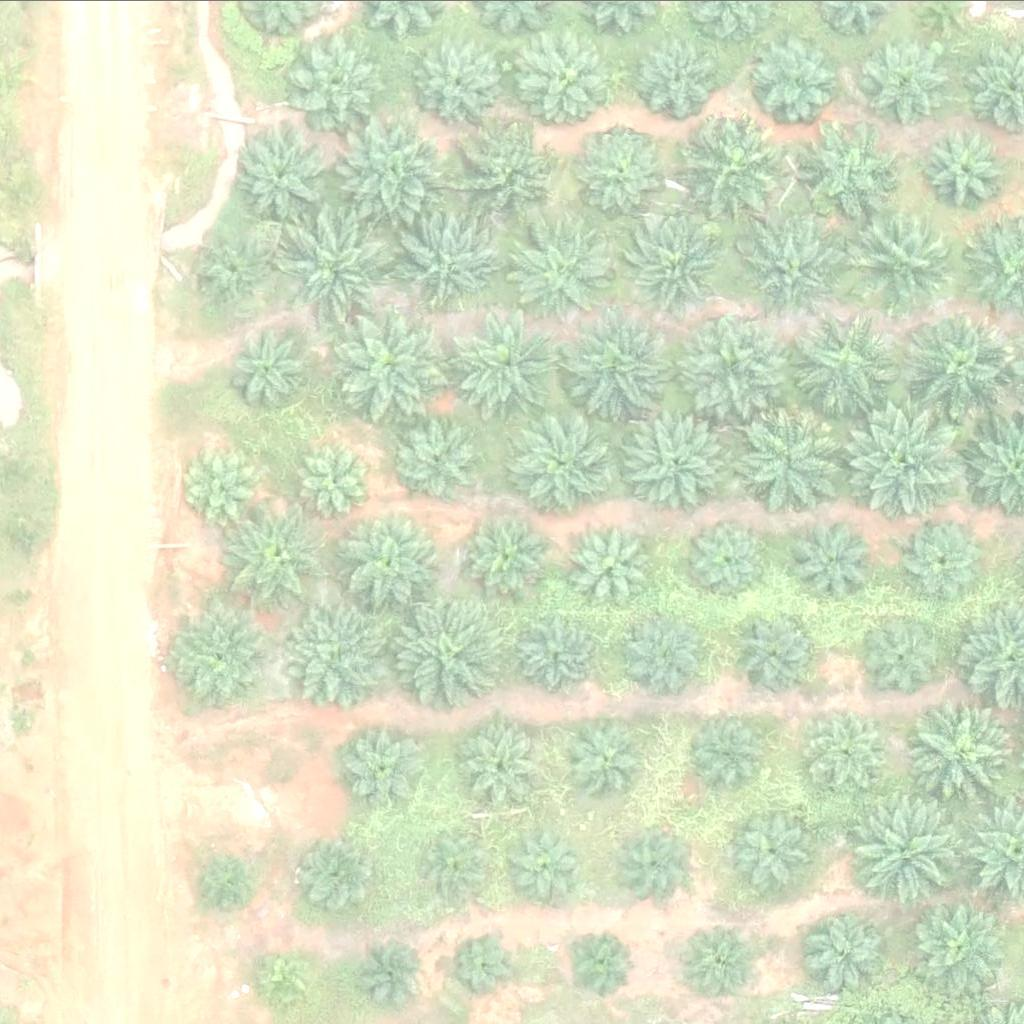Kelapa_Sawit: (267, 195, 392, 320), (284, 592, 398, 705), (391, 586, 505, 699), (848, 405, 962, 518), (331, 305, 444, 418), (450, 300, 563, 413), (559, 306, 672, 419), (849, 795, 962, 908), (677, 307, 791, 419), (906, 304, 1020, 416), (735, 404, 849, 516), (846, 207, 959, 319), (909, 698, 1022, 810), (171, 604, 272, 704), (222, 506, 323, 606), (397, 205, 498, 305), (512, 215, 613, 315), (633, 215, 734, 315), (343, 117, 444, 217), (459, 125, 560, 225), (682, 111, 783, 211), (803, 116, 904, 216), (909, 893, 1010, 993), (342, 506, 442, 606), (509, 409, 609, 509), (623, 406, 723, 506), (744, 212, 844, 312), (795, 316, 895, 416), (731, 801, 820, 889), (521, 31, 610, 119), (241, 128, 329, 216), (576, 127, 664, 215), (633, 31, 721, 119), (753, 32, 841, 120), (858, 34, 946, 122), (803, 705, 891, 793), (227, 322, 316, 409), (801, 911, 890, 998), (180, 434, 268, 521), (792, 517, 880, 604), (686, 511, 774, 598), (731, 602, 819, 689), (295, 38, 383, 125), (420, 36, 508, 123), (924, 125, 1012, 212), (895, 513, 983, 600), (414, 823, 490, 898), (304, 839, 380, 914), (465, 725, 541, 800), (345, 730, 421, 805), (518, 610, 594, 685), (632, 612, 708, 687), (471, 518, 547, 593), (575, 523, 651, 598), (404, 416, 480, 491), (297, 441, 372, 516), (621, 824, 696, 899), (693, 719, 768, 794), (565, 717, 640, 792), (505, 823, 580, 898), (360, 936, 435, 1011), (450, 922, 525, 997), (564, 924, 639, 999), (688, 921, 763, 996), (867, 617, 942, 692), (258, 950, 321, 1013), (196, 858, 259, 921), (204, 234, 267, 296)
